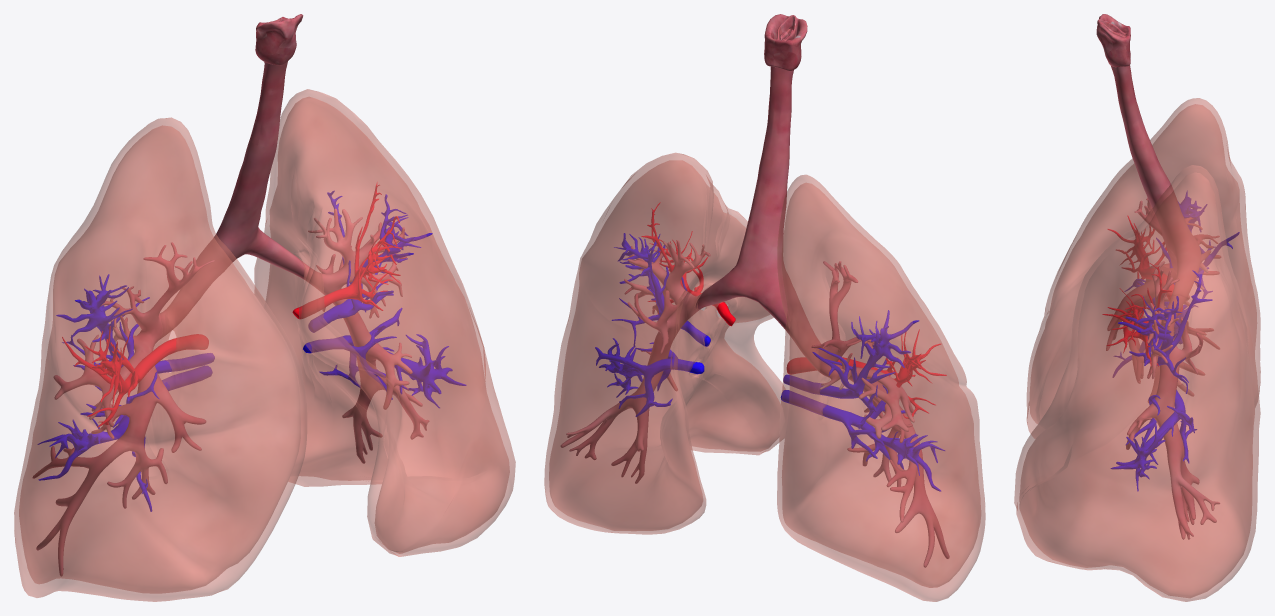
File: AnimLung_optimized.glb
The picture shows the model from 3 angles, left to right: view 1: azimuth 30°, elevation 25°; view 2: azimuth 150°, elevation 25°; view 3: azimuth 270°, elevation 25°; orthographic projection. The views are drawn at different scales.
Visible parts, largest first — view 1: 0, 8, Trachea_Trachea_mat_0, Pulmonary_veins_Pulmonary_veins_mat_0, Pulmonary_arteries_Pulmonary_arteries_mat_0; view 2: 0, 8, Trachea_Trachea_mat_0, Pulmonary_veins_Pulmonary_veins_mat_0, Pulmonary_arteries_Pulmonary_arteries_mat_0; view 3: 8, 0, Trachea_Trachea_mat_0, Pulmonary_veins_Pulmonary_veins_mat_0, Pulmonary_arteries_Pulmonary_arteries_mat_0.
Part boxes in pixels (box(x1,y1,x2,y2)): 0: box(14, 117, 307, 601); 8: box(254, 89, 515, 556); Trachea_Trachea_mat_0: box(32, 14, 429, 576); Pulmonary_veins_Pulmonary_veins_mat_0: box(37, 190, 466, 511); Pulmonary_arteries_Pulmonary_arteries_mat_0: box(62, 182, 401, 427); 0: box(777, 174, 985, 601); 8: box(544, 152, 788, 534); Trachea_Trachea_mat_0: box(560, 14, 949, 567); Pulmonary_veins_Pulmonary_veins_mat_0: box(595, 233, 944, 491); Pulmonary_arteries_Pulmonary_arteries_mat_0: box(641, 202, 946, 418); 8: box(1014, 165, 1260, 601); 0: box(1026, 98, 1260, 438); Trachea_Trachea_mat_0: box(1096, 14, 1220, 539); Pulmonary_veins_Pulmonary_veins_mat_0: box(1110, 192, 1239, 491); Pulmonary_arteries_Pulmonary_arteries_mat_0: box(1102, 215, 1182, 366).
Bounding box in the file's own units: 4.76 × 5.56 × 2.51.
Materials: 5 (3 with a texture image).
